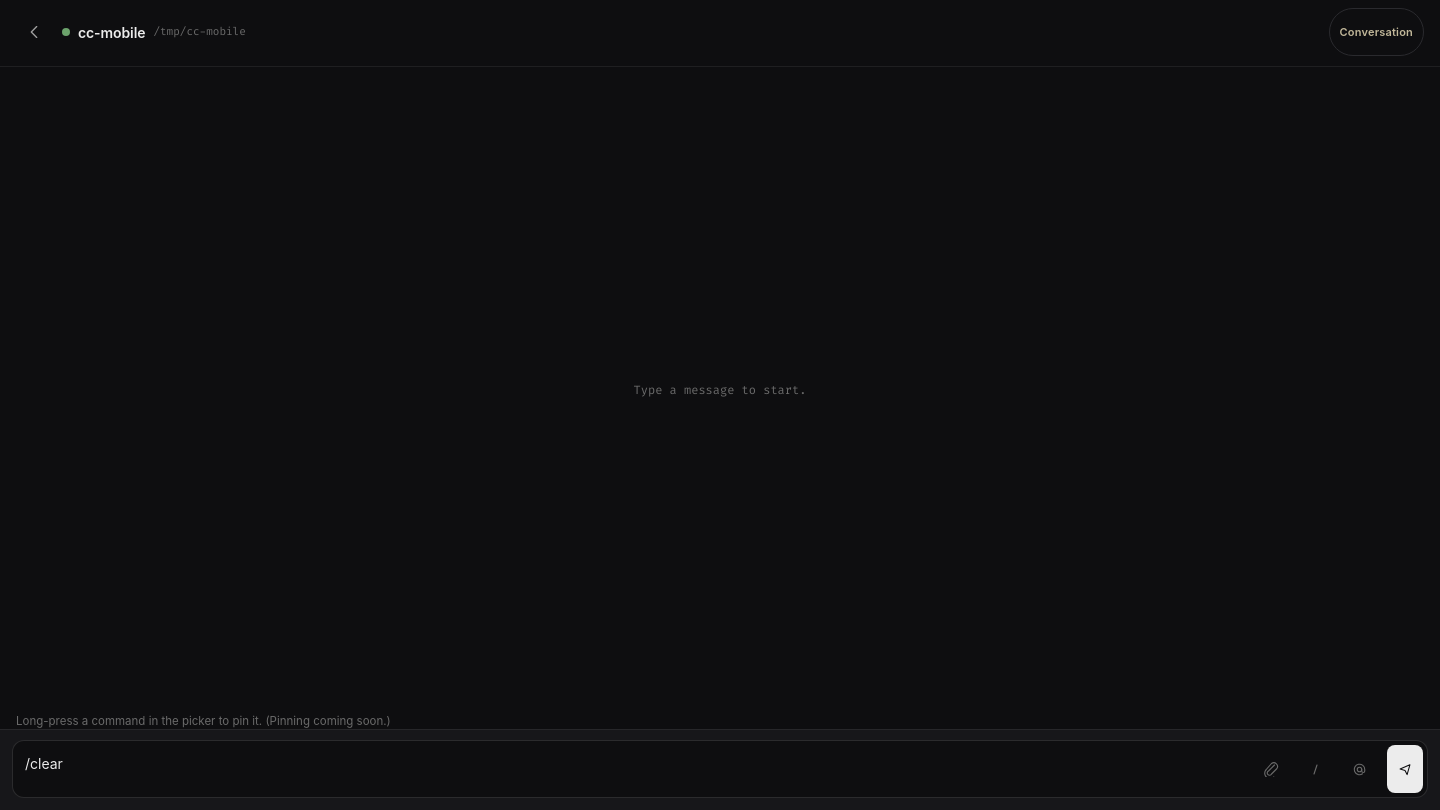
it: PickerSheetTerminates › T1: loading slash sheet shows Loading…
This screenshot has width=1440, height=810.
Step 1. Click the button named "Insert slash command" → click(1315, 769), box [1297,745,1333,793]
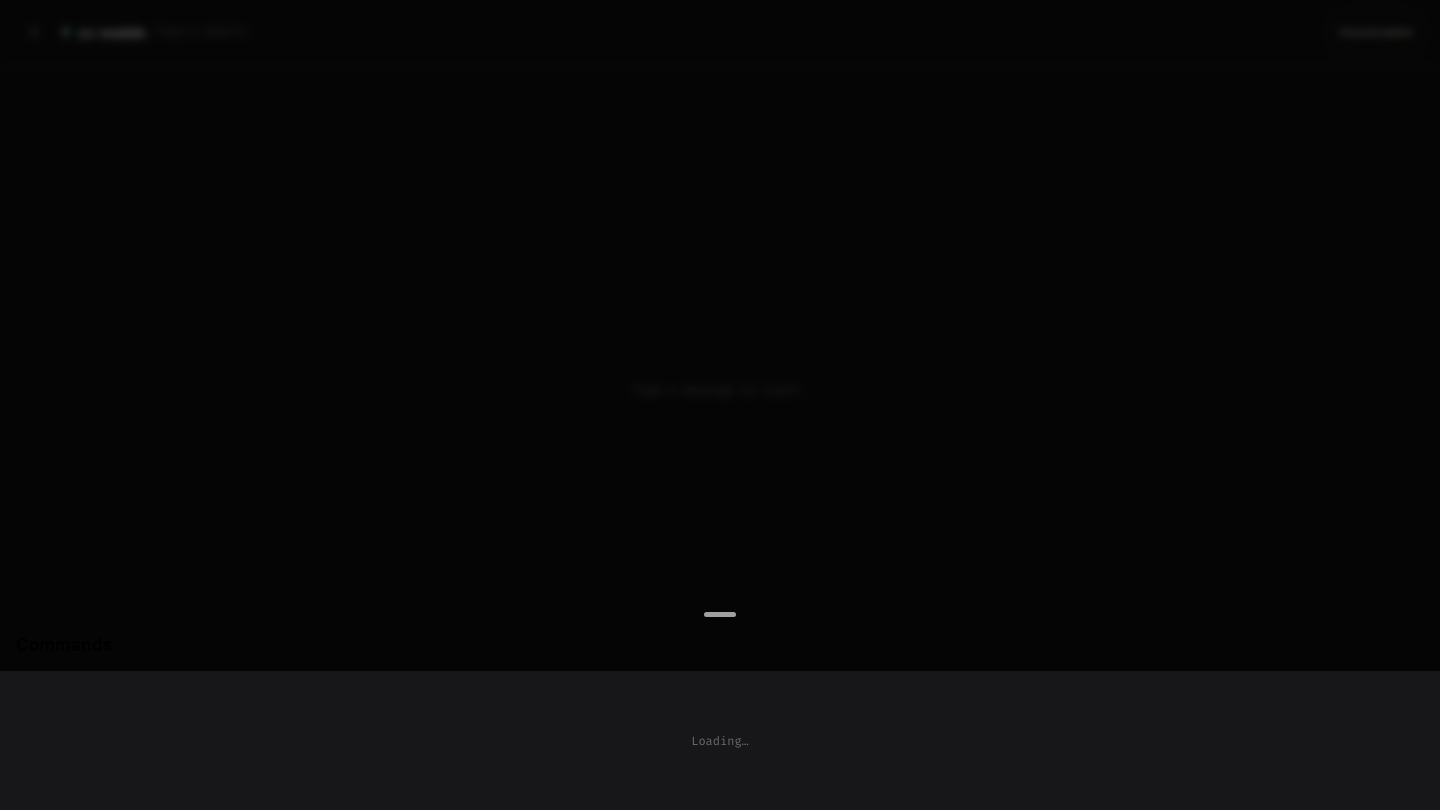
Check: the text "Loading…" is shown, box [691,732,749,748]
